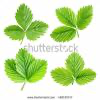Strawberry leaf: (16, 47, 36, 79), (63, 51, 86, 78), (54, 5, 79, 28), (25, 21, 50, 42), (14, 3, 33, 30), (27, 58, 48, 82), (4, 58, 25, 81), (49, 26, 76, 43), (50, 66, 74, 85), (76, 4, 93, 30), (75, 66, 98, 85), (3, 24, 25, 42)
